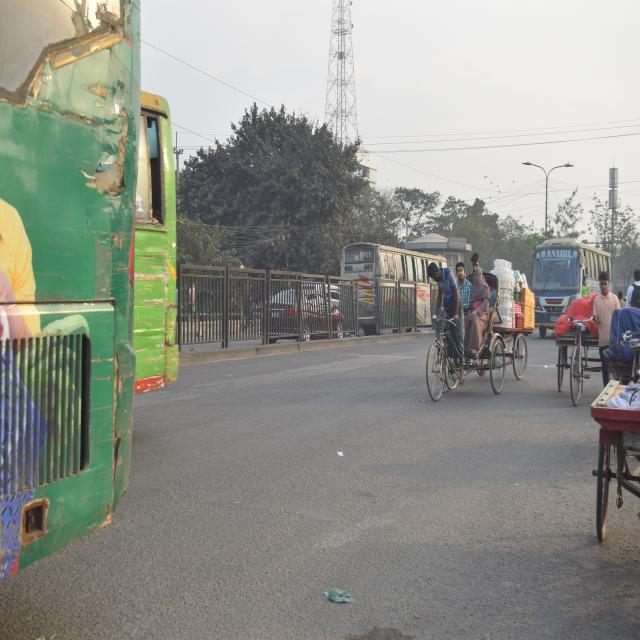bus: (0, 0, 142, 562), (336, 236, 442, 323), (529, 240, 608, 328)
car: (260, 276, 346, 348)
